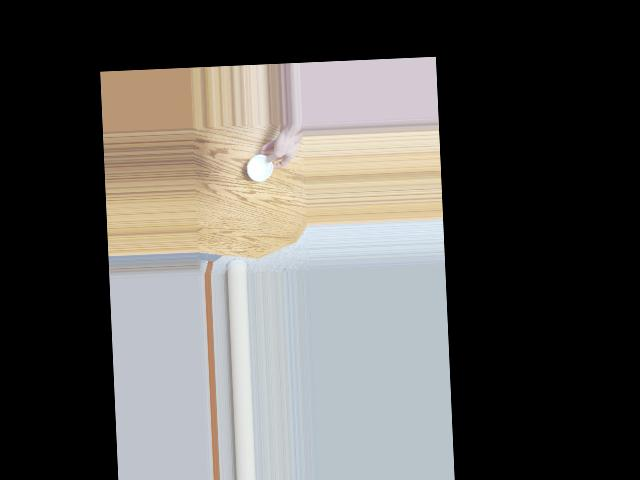cotage: (245, 152, 273, 182)
